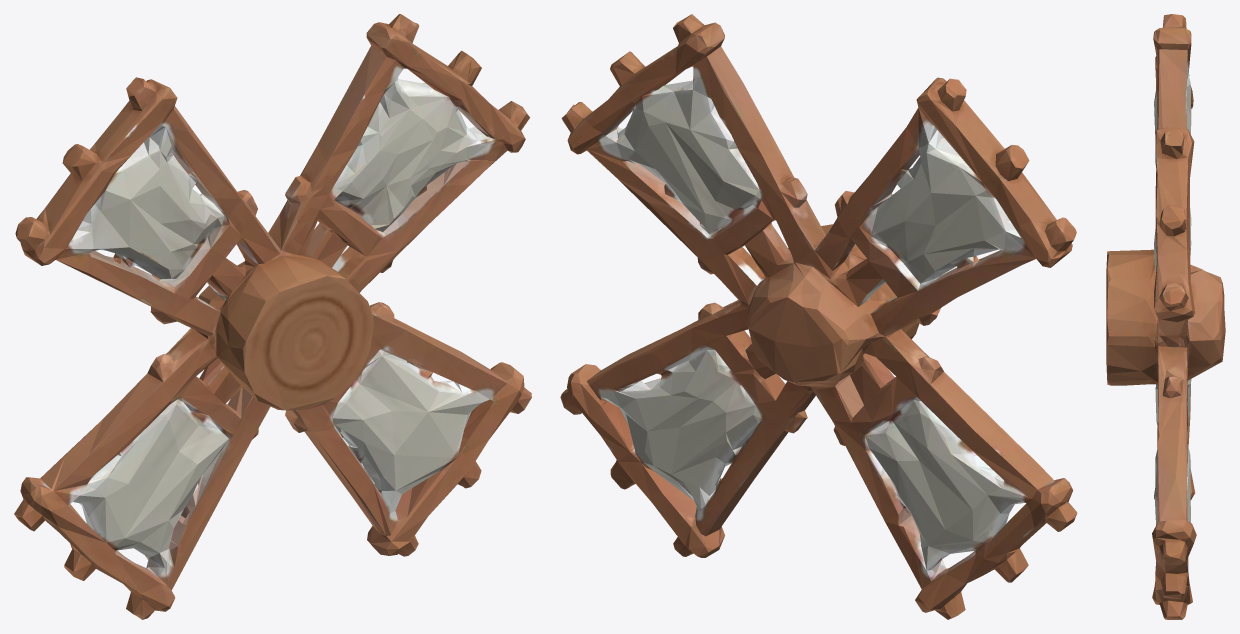
Rendered from windmill_sails.glb.
3 views of the same model, side by side, from view 1: azimuth 30°, elevation 25°; view 2: azimuth 150°, elevation 25°; view 3: azimuth 270°, elevation 25° (orthographic). The views are drawn at different scales.
Parts seen in each view (by area): view 1: tmpqpx1jh7m.ply; view 2: tmpqpx1jh7m.ply; view 3: tmpqpx1jh7m.ply.
Boxes of the visible parts, x1,y1,x2,y2 form: tmpqpx1jh7m.ply: (14, 14, 531, 619); tmpqpx1jh7m.ply: (560, 14, 1077, 619); tmpqpx1jh7m.ply: (1106, 14, 1225, 619).
Bounding box in the file's own units: 1.99 × 1.99 × 0.4395.
Materials: 1 (1 with a texture image).
